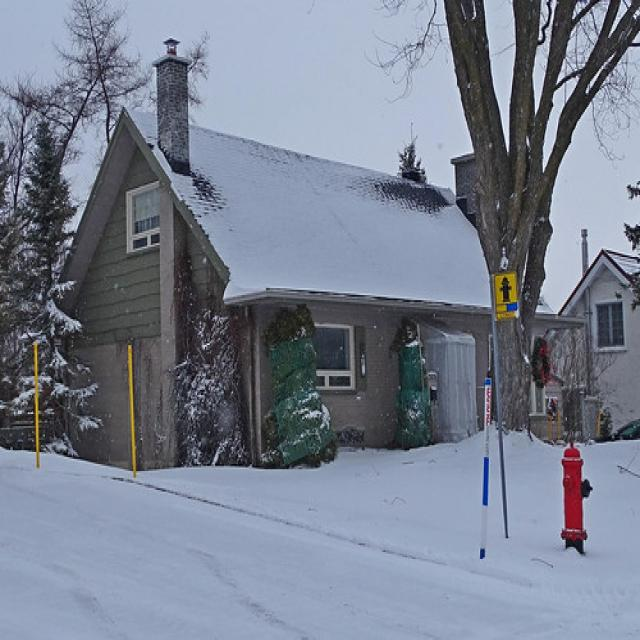Normal_building: (47, 41, 494, 473)
